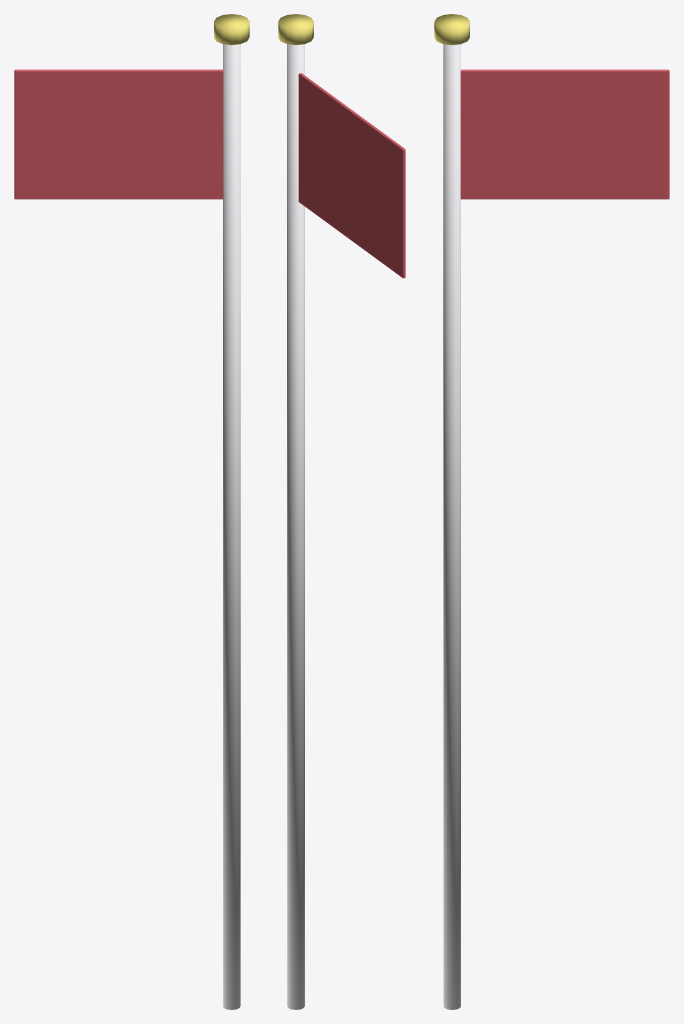
The model's file is flagpole.glb.
The picture shows the model from 3 angles, left to right: view 1: azimuth 90°, elevation 25°; view 2: azimuth 210°, elevation 25°; view 3: azimuth 270°, elevation 25°; orthographic projection.
Visible parts, largest first — view 1: flag_cloth, flag_pole, flag_ball; view 2: flag_pole, flag_cloth, flag_ball; view 3: flag_cloth, flag_pole, flag_ball.
Boxes of the visible parts, x1,y1,x2,y2 form: flag_cloth: [14, 69, 223, 199]; flag_pole: [223, 44, 240, 1009]; flag_ball: [214, 14, 249, 45]; flag_pole: [287, 44, 304, 1009]; flag_cloth: [298, 73, 405, 278]; flag_ball: [278, 14, 313, 44]; flag_cloth: [460, 69, 669, 199]; flag_pole: [443, 44, 460, 1009]; flag_ball: [434, 14, 469, 45].
Bounding box in the file's own units: 0.2 × 6.1 × 1.32.
